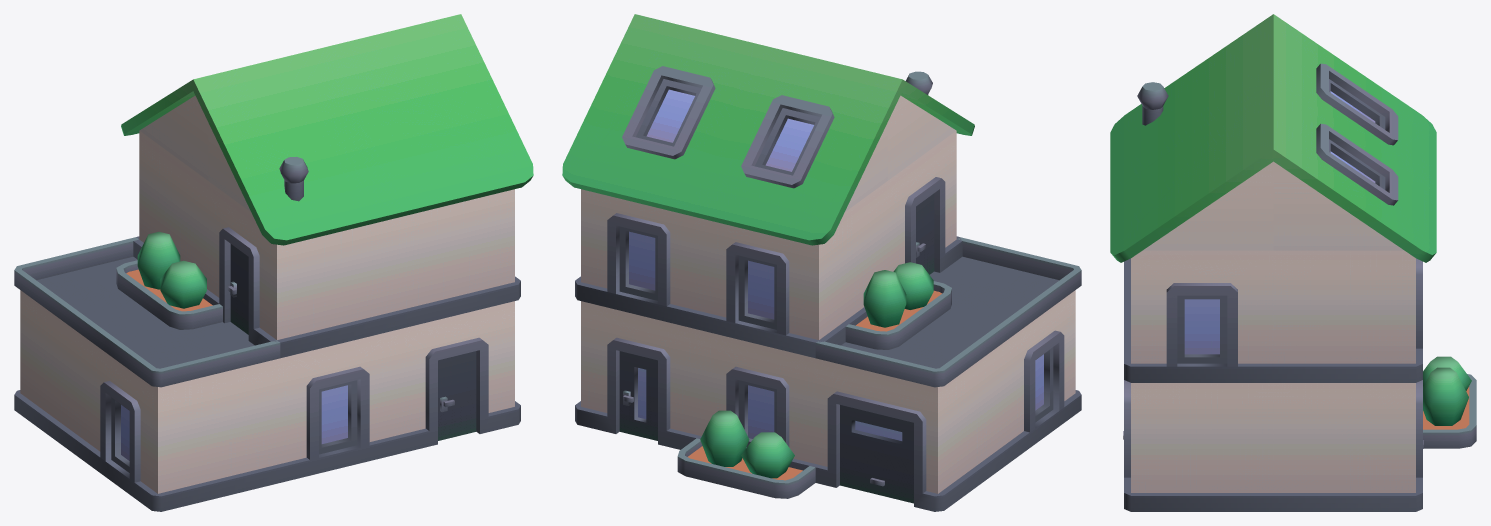
File: sub_building_type_o.glb
3 views of the same model, side by side, from view 1: azimuth 30°, elevation 25°; view 2: azimuth 150°, elevation 25°; view 3: azimuth 270°, elevation 25° (orthographic). The views are drawn at different scales.
Parts seen in each view (by area): view 1: building-type-o; view 2: building-type-o; view 3: building-type-o.
Part boxes in pixels (<box>): building-type-o: <box>14,14,533,511</box>; building-type-o: <box>562,14,1081,511</box>; building-type-o: <box>1110,14,1476,511</box>.
Bounding box in the file's own units: 1.27 × 1.14 × 1.03.
1 material, 1 textured.
